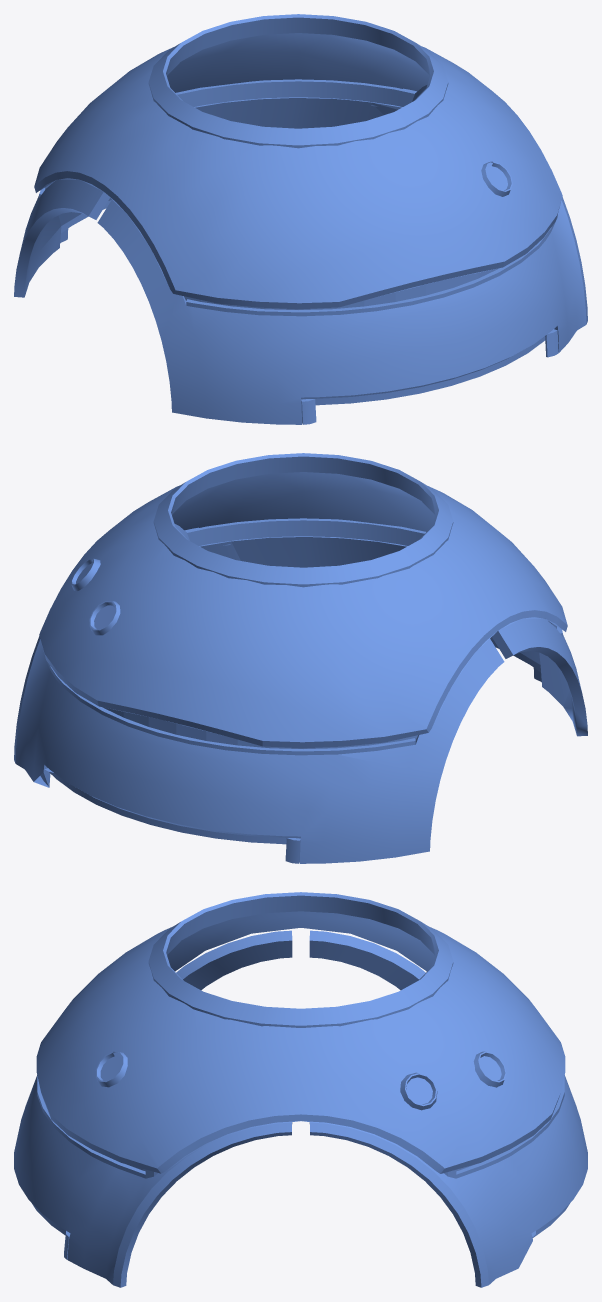
File: chassis_right.obj
The picture shows the model from 3 angles, top to bottom: view 1: azimuth 30°, elevation 25°; view 2: azimuth 150°, elevation 25°; view 3: azimuth 270°, elevation 25°; orthographic projection.
Parts seen in each view (by area): view 1: personality_sphere_model; view 2: personality_sphere_model; view 3: personality_sphere_model.
Boxes of the visible parts, left/top/right/bottom form: personality_sphere_model: left=14, top=14, right=587, bottom=424; personality_sphere_model: left=14, top=453, right=587, bottom=863; personality_sphere_model: left=14, top=892, right=587, bottom=1287.
Size of the model in its own units: 26.31 by 14.46 by 31.63.
